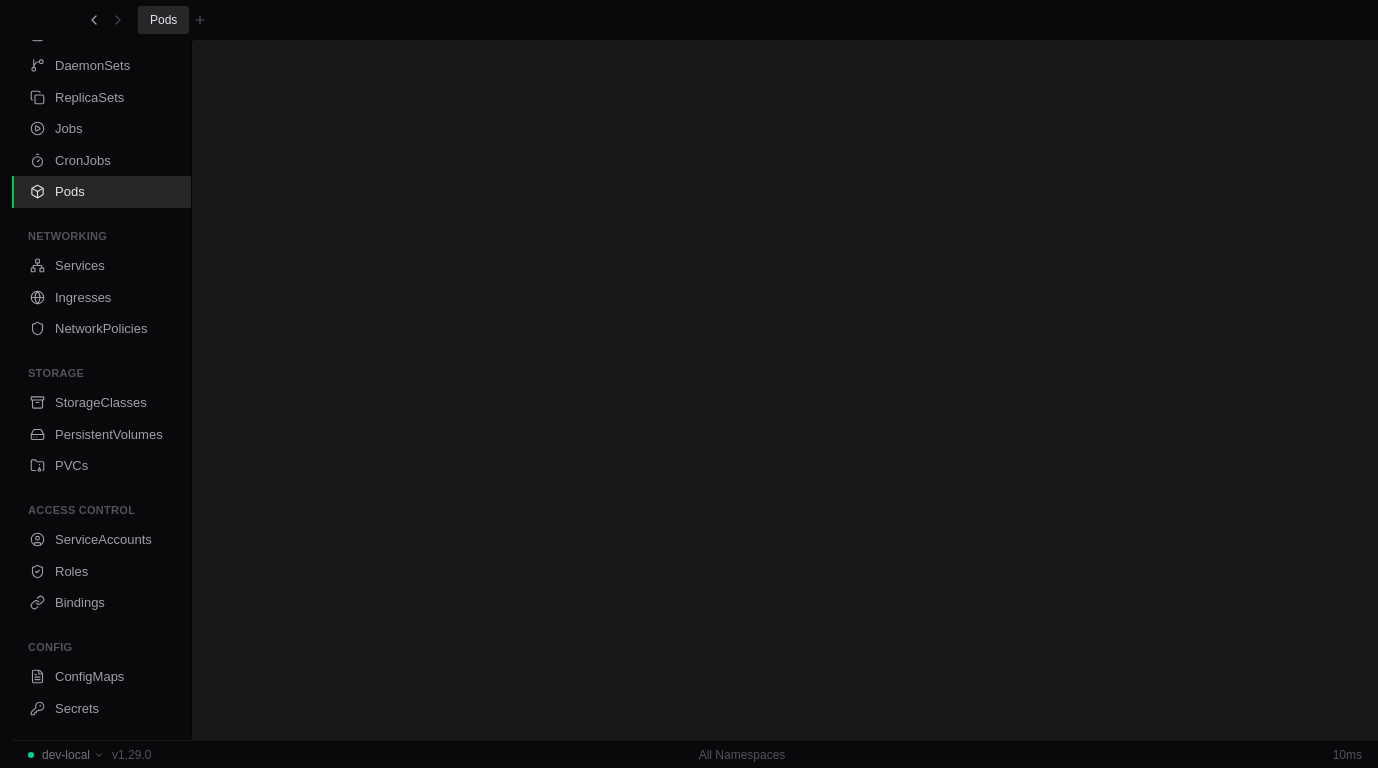
Test: RoleBindingDetailView › shows RoleBinding detail when clicking a role binding
(page scrolled)
Click the button "Bindings" at (102, 603), box [12,587,191,618]
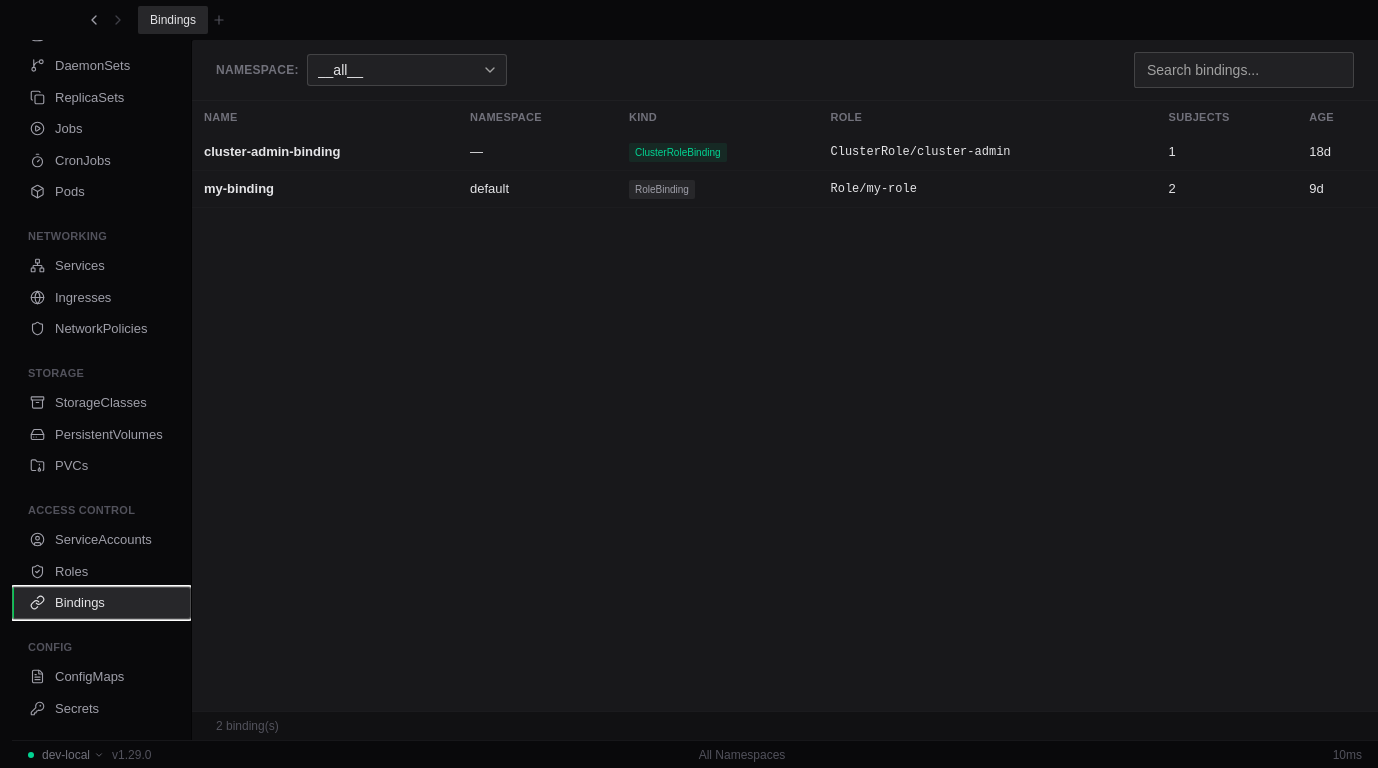
Result: the text "my-binding" is shown
Click the text "my-binding" at (325, 188), box [192,170,458,207]
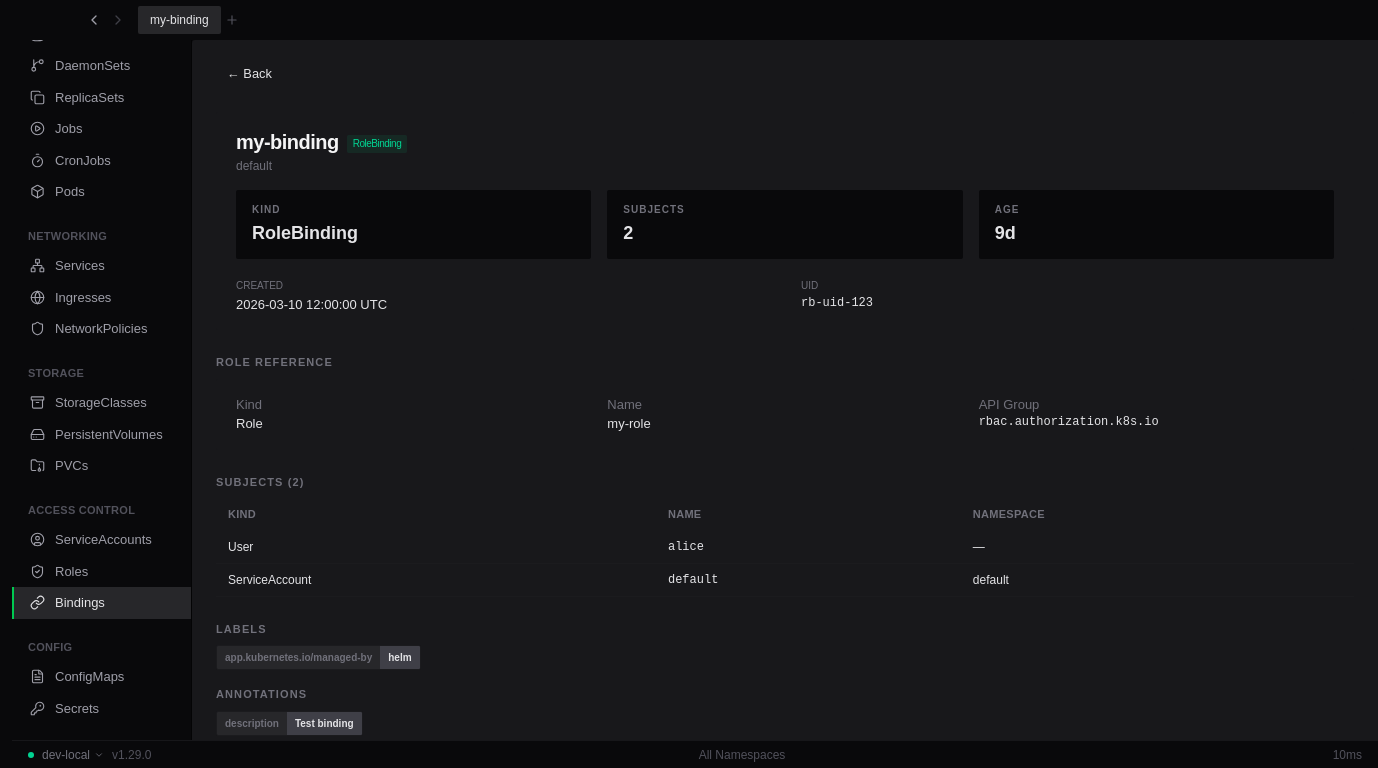
Result: the heading "Subjects (2)" is shown at [216,476,304,488]
